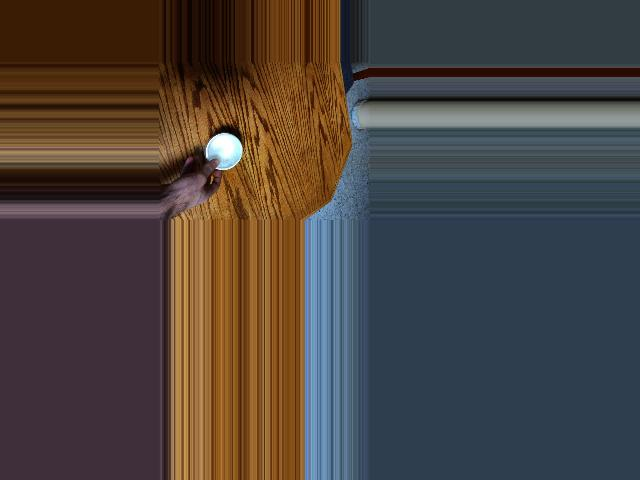cotage: (201, 134, 242, 174)
